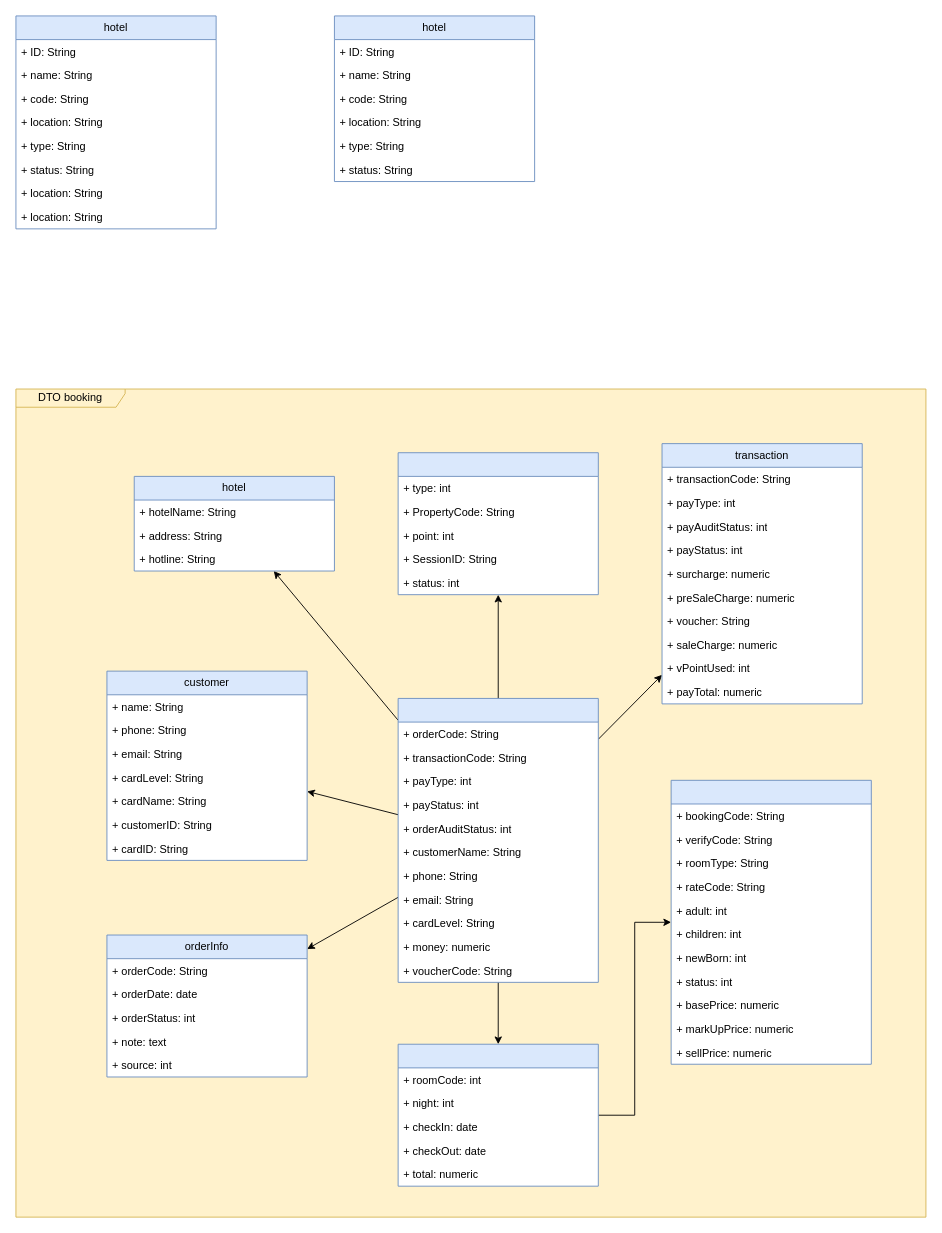
The diagram is 942 pixels wide and 1233 high, and some of its shapes have lost their labels. Each missing label, with the box of its shape:
booking: (397, 1043, 598, 1186)
detail: (670, 779, 871, 1064)
List<hotelOrder>: (397, 698, 598, 982)
VPoint: (397, 452, 598, 595)
